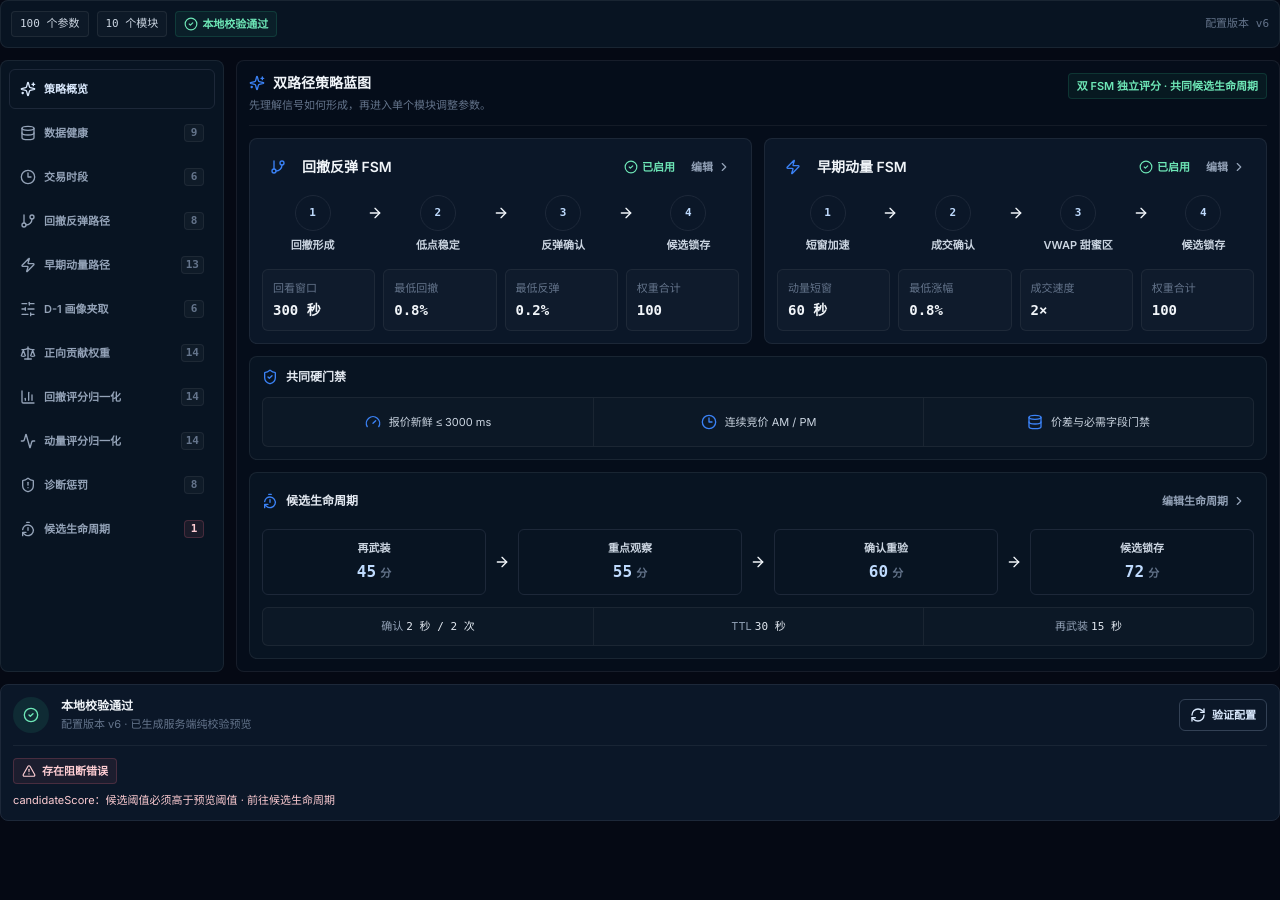
Test: TTradeSignalPolicyEditor › exposes the pure server preview and routes issues to their module
The width and height of the screenshot is (1280, 900).
Expected: the button "验证配置" is shown, x1=1179 y1=699 x2=1267 y2=731
Expected: the message shows "存在阻断错误", x1=42 y1=764 x2=108 y2=778
Click the button "candidateScore：候选阈值必须高于预览阈值 · 前往候选生命周期": click(174, 800) x1=13 y1=792 x2=335 y2=808
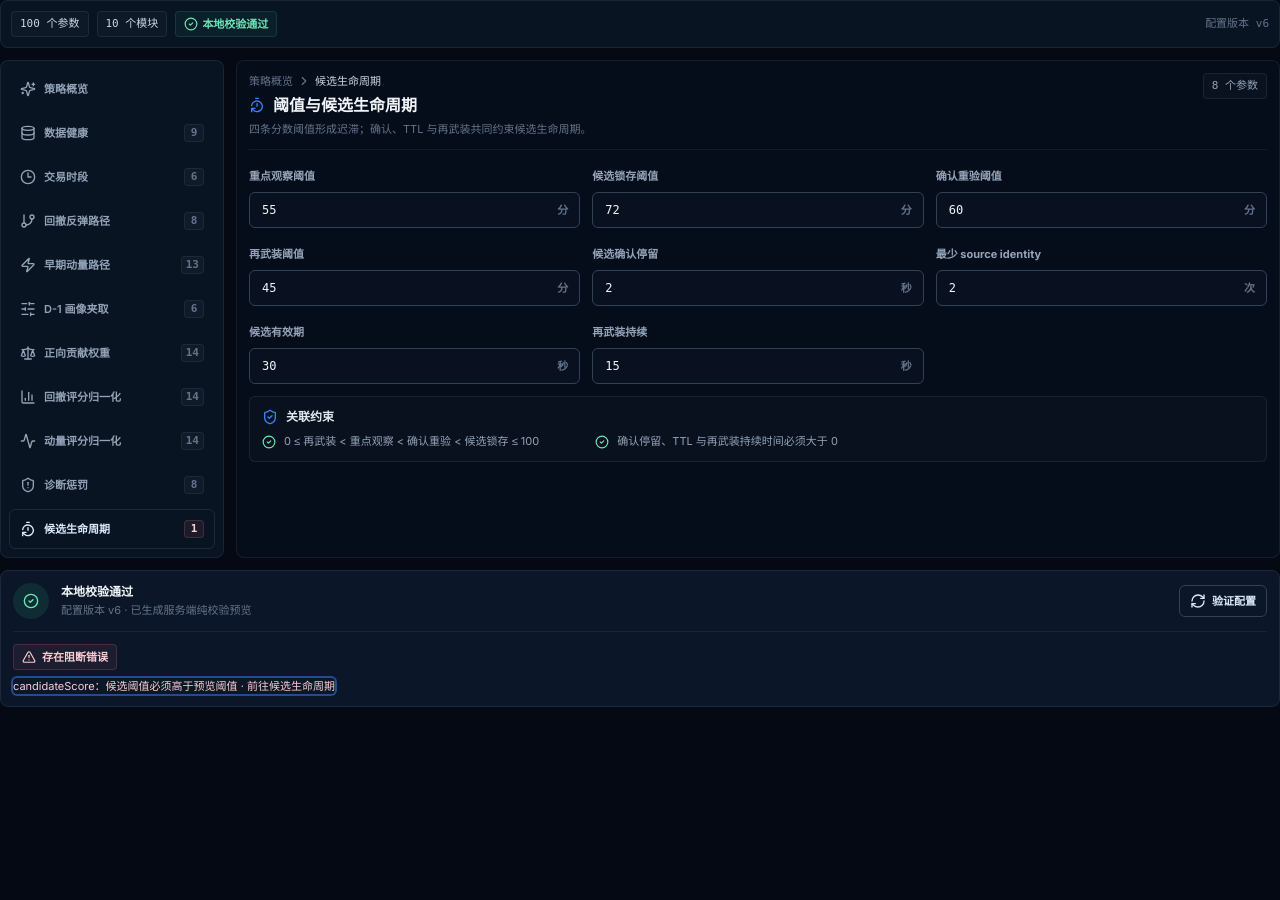
Expected: the heading "阈值与候选生命周期" is shown, x1=249 y1=95 x2=417 y2=115
